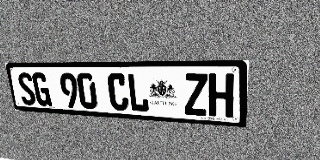0: (76, 73, 98, 109)
9: (59, 73, 80, 108)
C: (107, 73, 129, 111)
G: (31, 72, 52, 106)
H: (208, 73, 234, 118)
L: (126, 73, 150, 112)
S: (16, 72, 37, 105)
Z: (183, 73, 208, 116)
